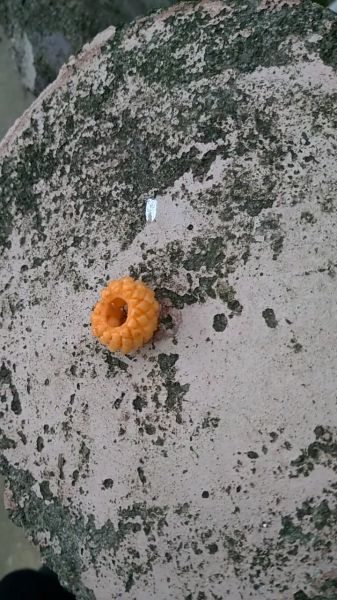eggs: (83, 271, 165, 353)
